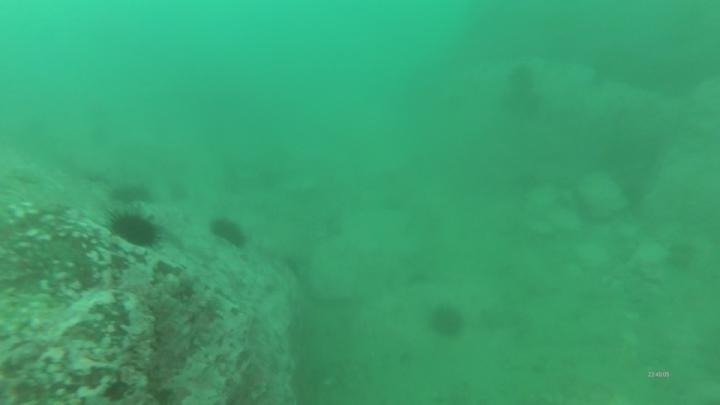echinus: (106, 208, 163, 250), (427, 302, 467, 341), (207, 214, 250, 250), (505, 62, 539, 96), (108, 181, 135, 207), (129, 179, 156, 205), (165, 177, 192, 203)
